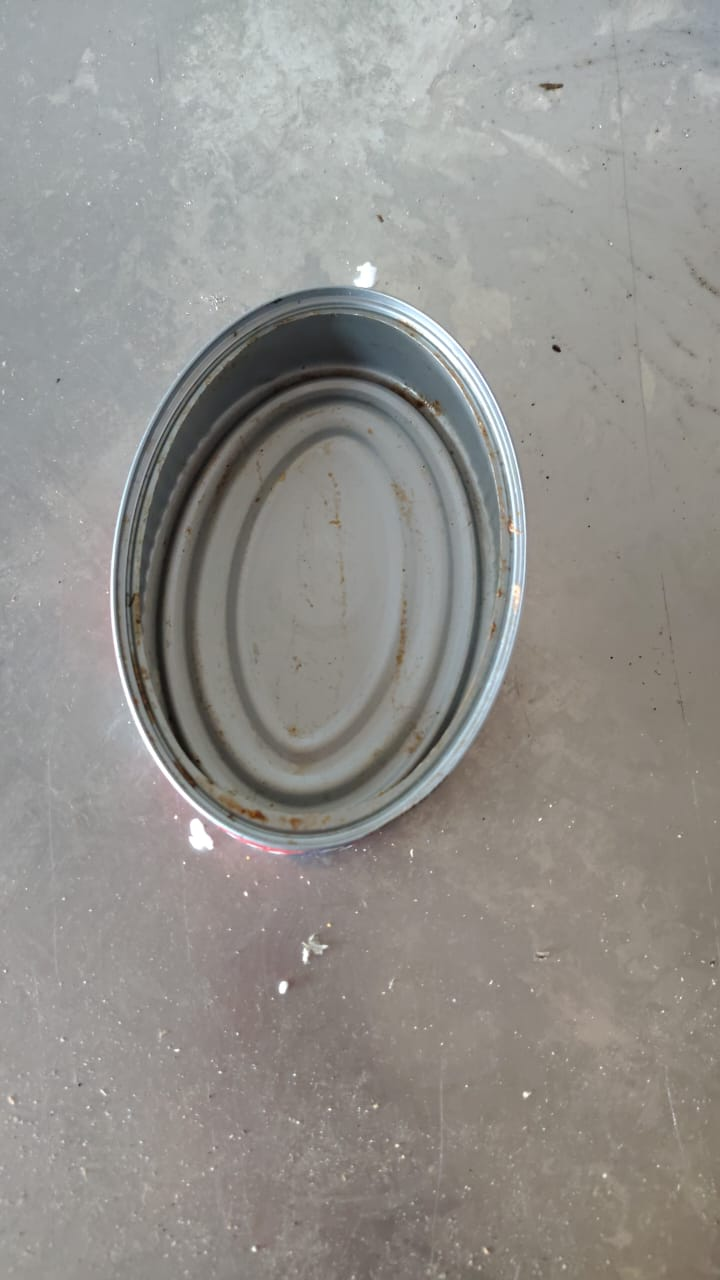Metal: (112, 286, 530, 862)
